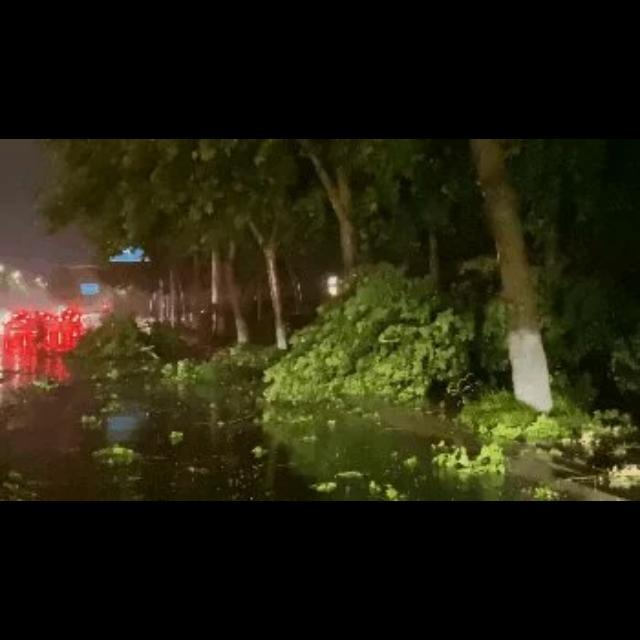fallen_tree: (254, 259, 610, 421)
